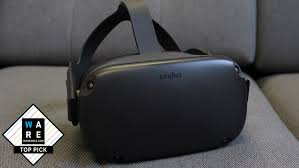oculus: (67, 44, 256, 162)
